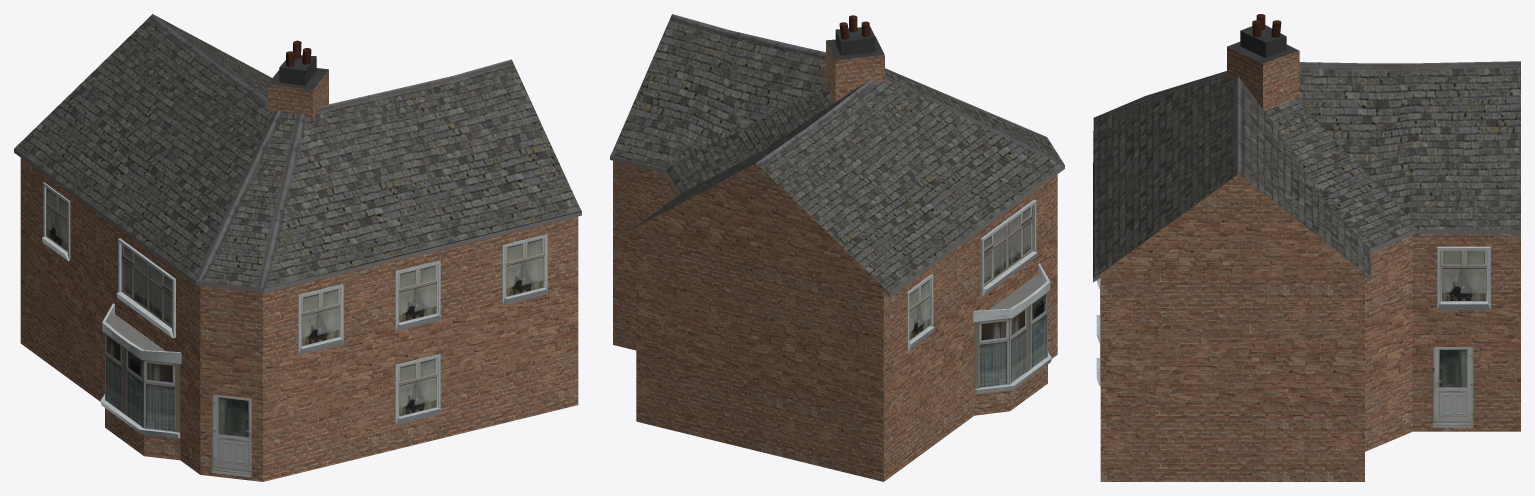
Rendered from cornerterrace1cm.FBX.
The picture shows the model from 3 angles, left to right: view 1: azimuth 30°, elevation 25°; view 2: azimuth 150°, elevation 25°; view 3: azimuth 270°, elevation 25°; orthographic projection. The views are drawn at different scales.
Visible parts, largest first — view 1: Box004; view 2: Box004; view 3: Box004.
Boxes of the visible parts, x1=… form: Box004: x1=14, y1=14, x2=581, y2=481; Box004: x1=610, y1=14, x2=1064, y2=481; Box004: x1=1093, y1=14, x2=1520, y2=481.
Bounding box in the file's own units: 1374 × 1195 × 1284.
